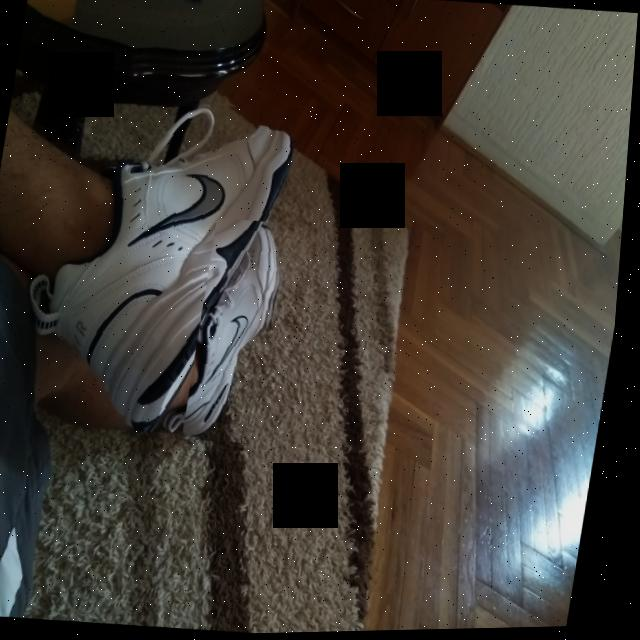shoe: (50, 89, 303, 443), (188, 218, 294, 446)
